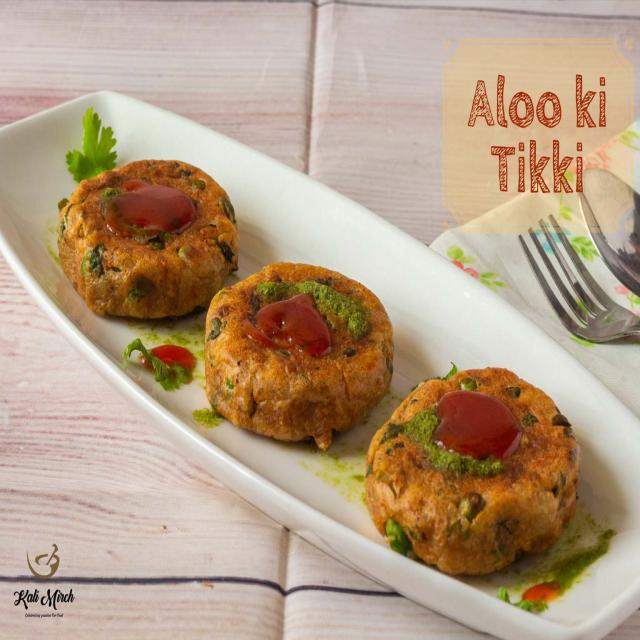Aloo Tikki: (367, 368, 578, 572), (208, 262, 394, 439), (59, 155, 237, 322)
